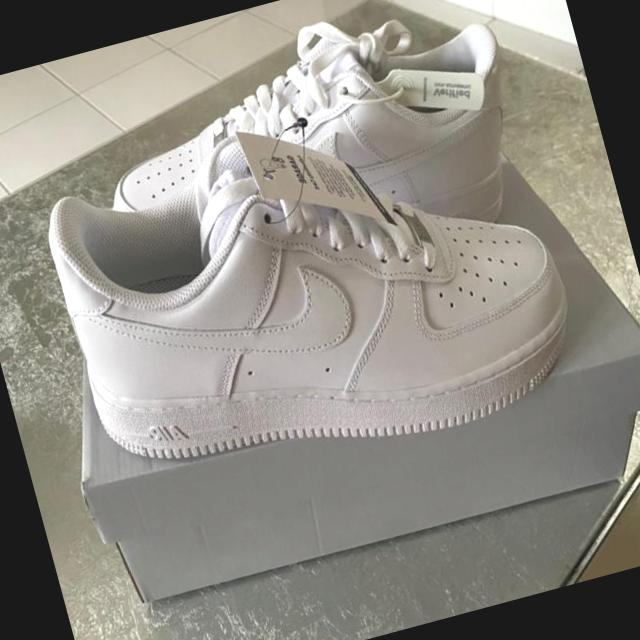nike_original_airforce: (32, 76, 594, 519), (31, 0, 541, 329)
